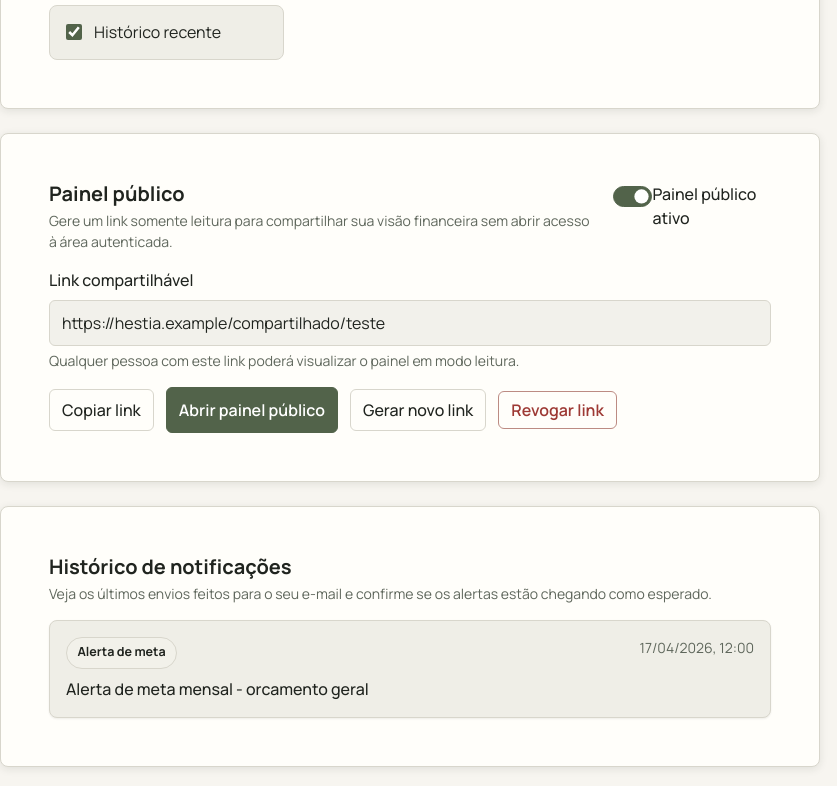
Test: Profile page › revokes and disables public sharing
The width and height of the screenshot is (837, 786).
(page scrolled)
Click the button "Revogar link" at (558, 410), box [498,391,617,429]
(page scrolled)
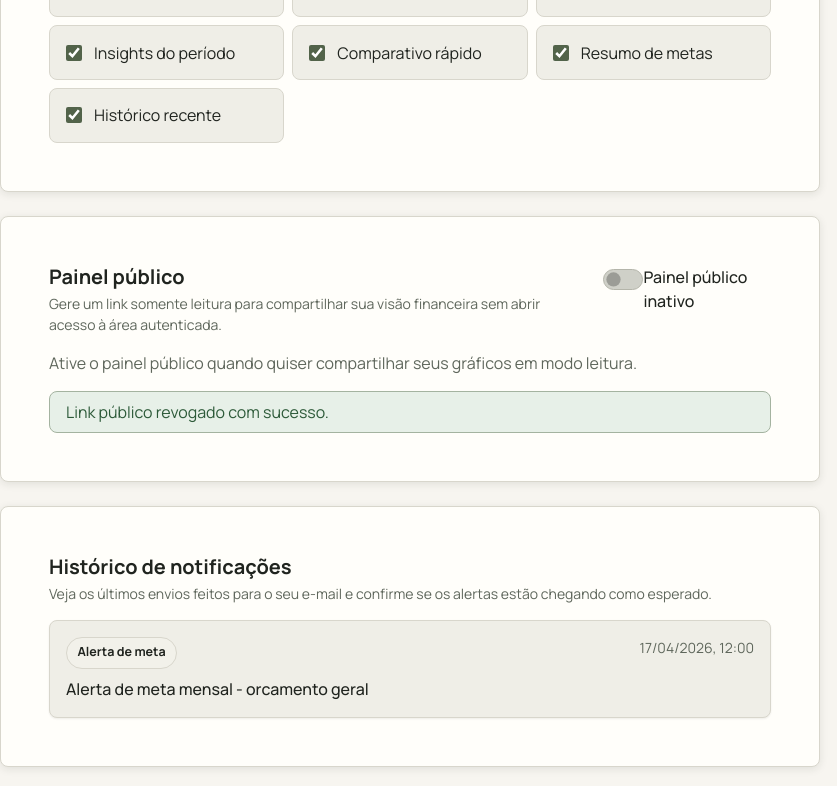
Now the text "Link público revogado com sucesso." is shown, box [49,391,771,433]
